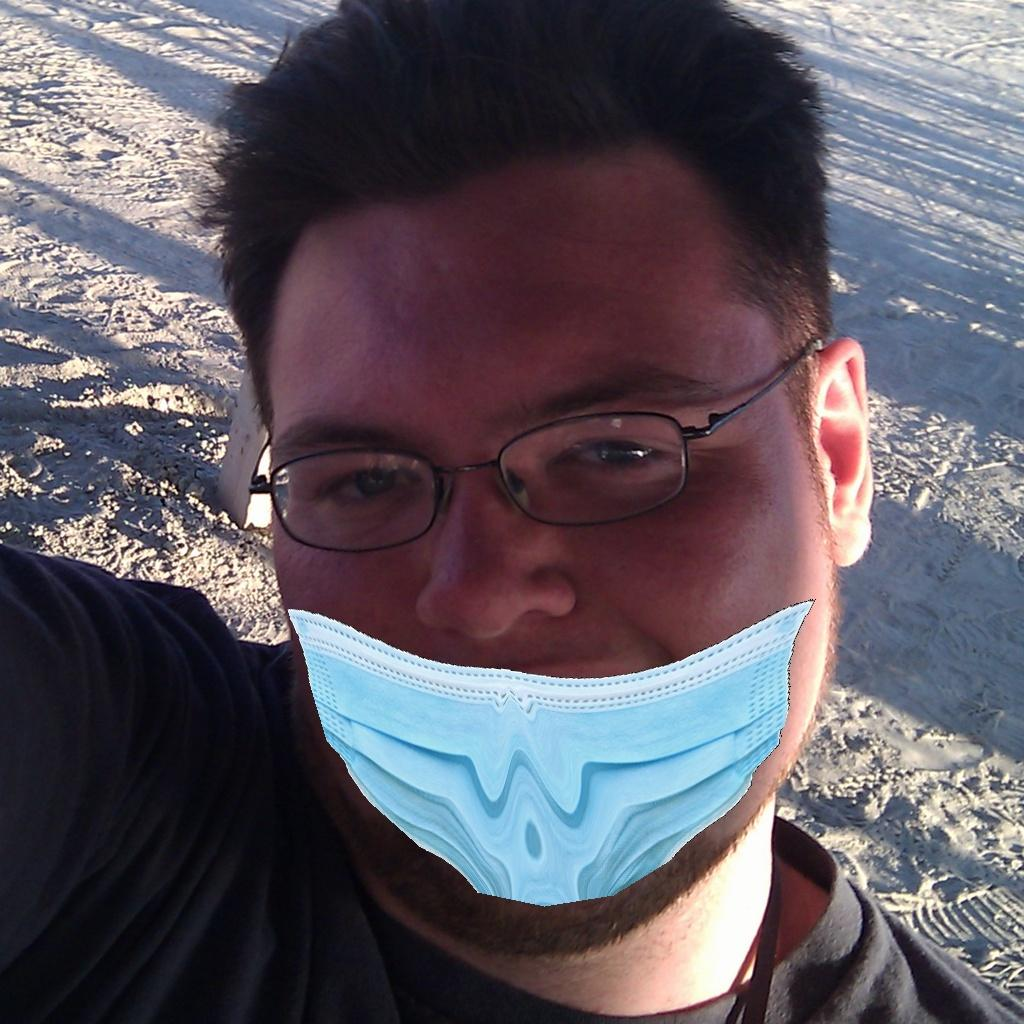Máscara Incorreta: (238, 308, 792, 868)
